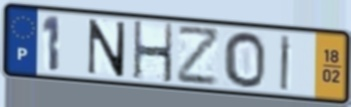1: (41, 15, 62, 74)
H: (131, 19, 175, 85)
I: (278, 33, 293, 93)
N: (85, 17, 129, 79)
O: (222, 30, 268, 90)
Z: (177, 26, 223, 88)
